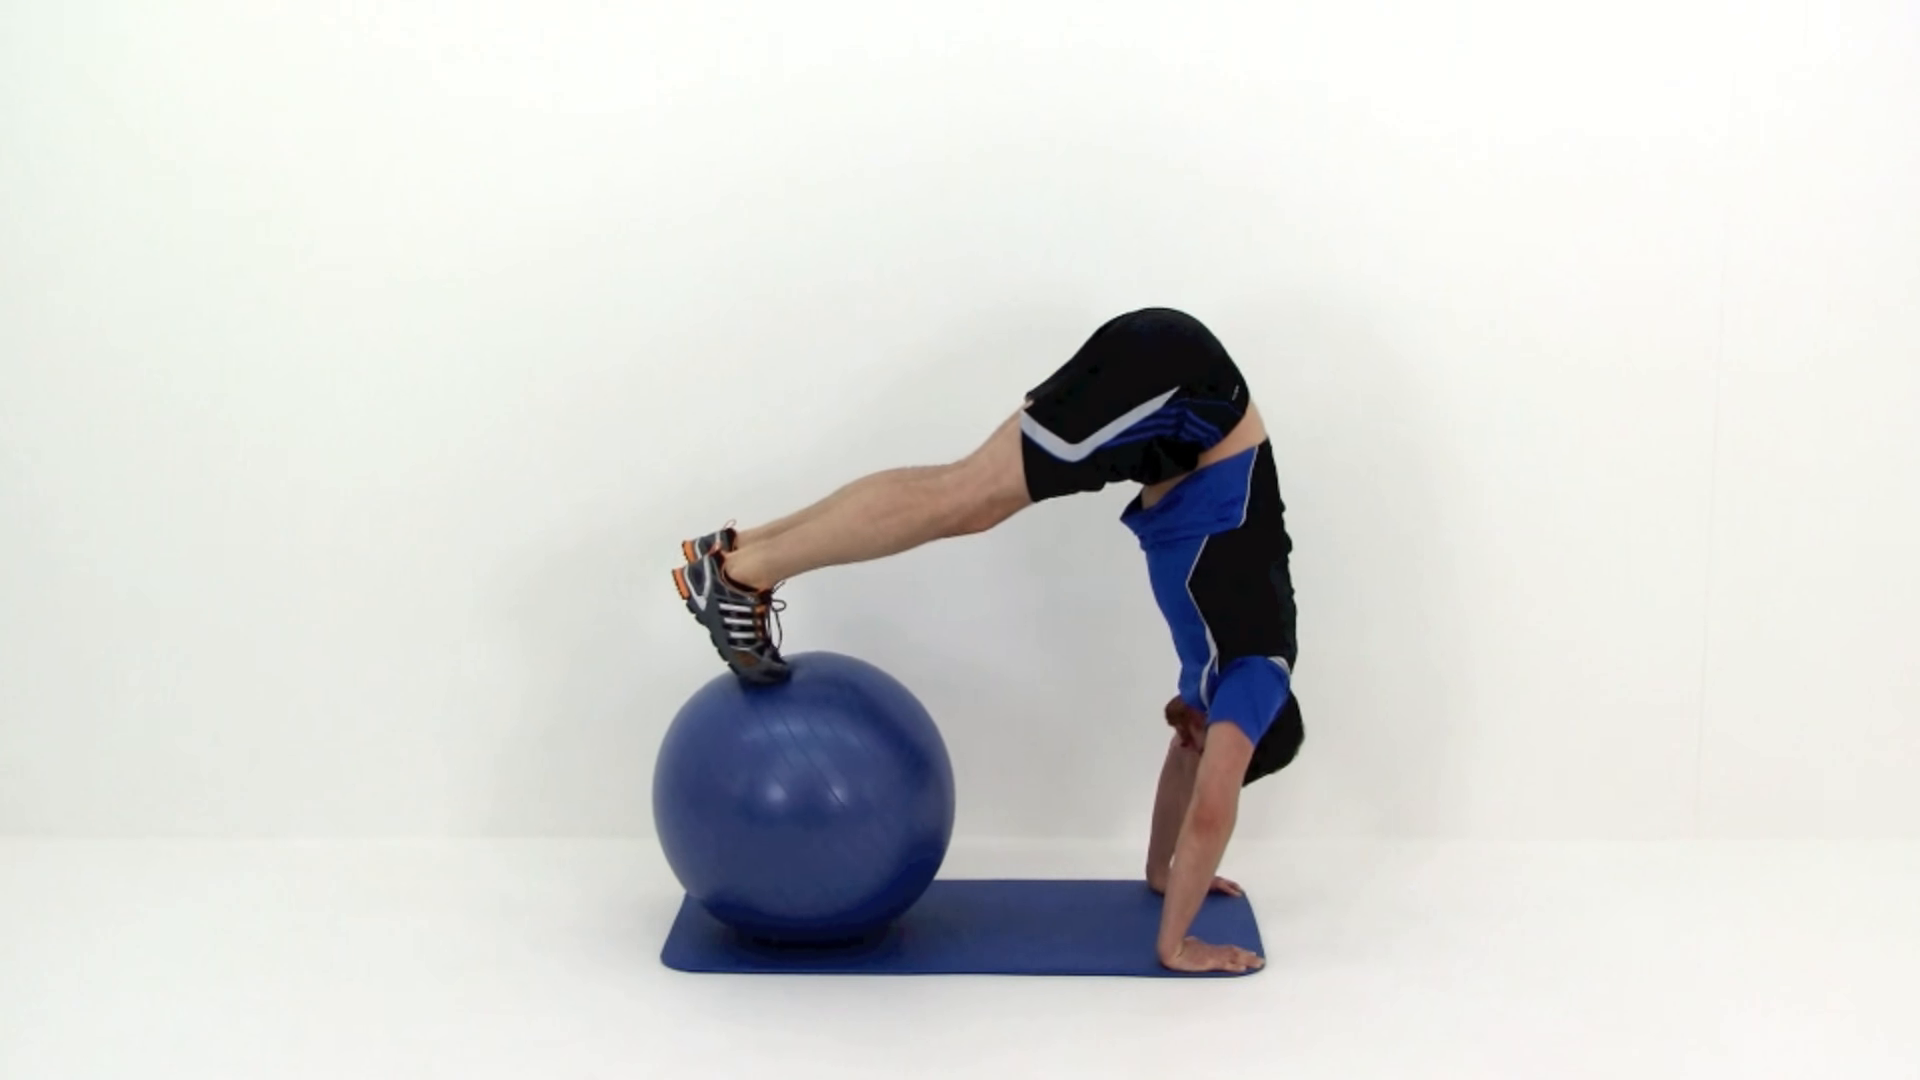yogaball: (640, 646, 973, 957)
